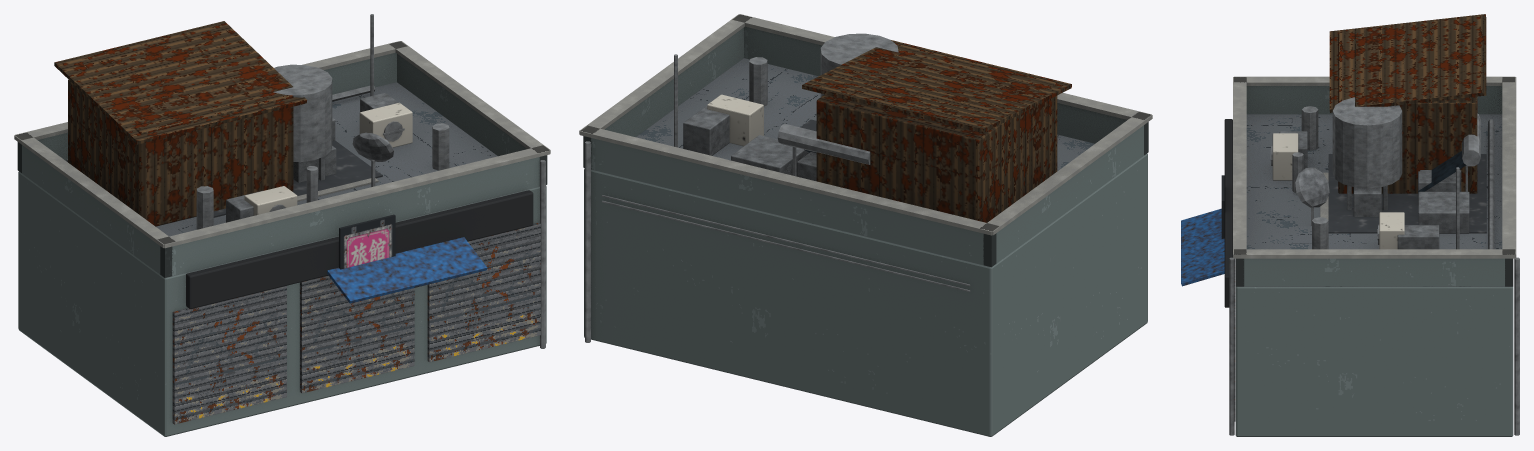
Rendered from city_row_low_b.glb.
3 views of the same model, side by side, from view 1: azimuth 30°, elevation 25°; view 2: azimuth 150°, elevation 25°; view 3: azimuth 270°, elevation 25° (orthographic). The views are drawn at different scales.
Visible parts, largest first — view 1: city_row_low_b.001; view 2: city_row_low_b.001; view 3: city_row_low_b.001.
Boxes of the visible parts, x1,y1,x2,y2 form: city_row_low_b.001: [14, 14, 550, 436]; city_row_low_b.001: [579, 14, 1152, 436]; city_row_low_b.001: [1181, 14, 1519, 436].
Bounding box in the file's own units: 9.12 × 6.15 × 7.32.
13 materials, 13 textured.
